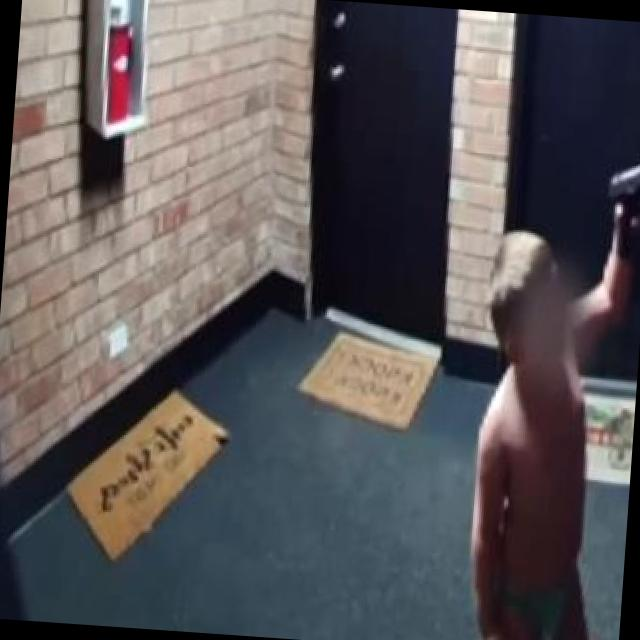Guns: (598, 139, 640, 250)
